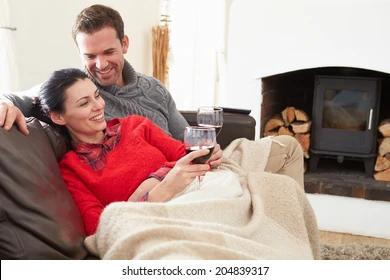blanket: (82, 133, 320, 262)
sweater: (0, 56, 204, 165)
trousers: (55, 112, 213, 237)
